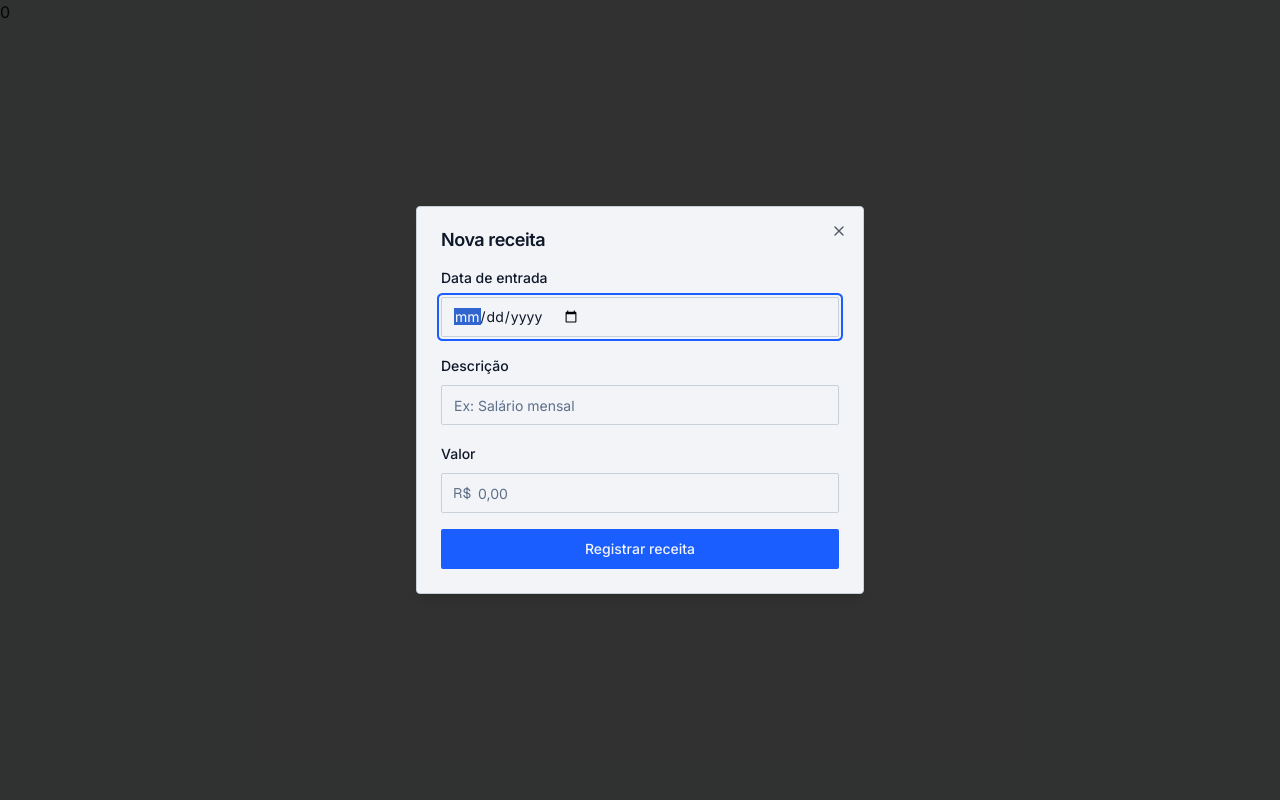
fluxos assincronos — submit com feedback › falha da API volta o botao ao normal, mostra o erro e preserva o que foi digitado
Type "2026-10-20" into the date field labelled "Data de entrada" at (640, 317), box x1=441 y1=297 x2=839 y2=337
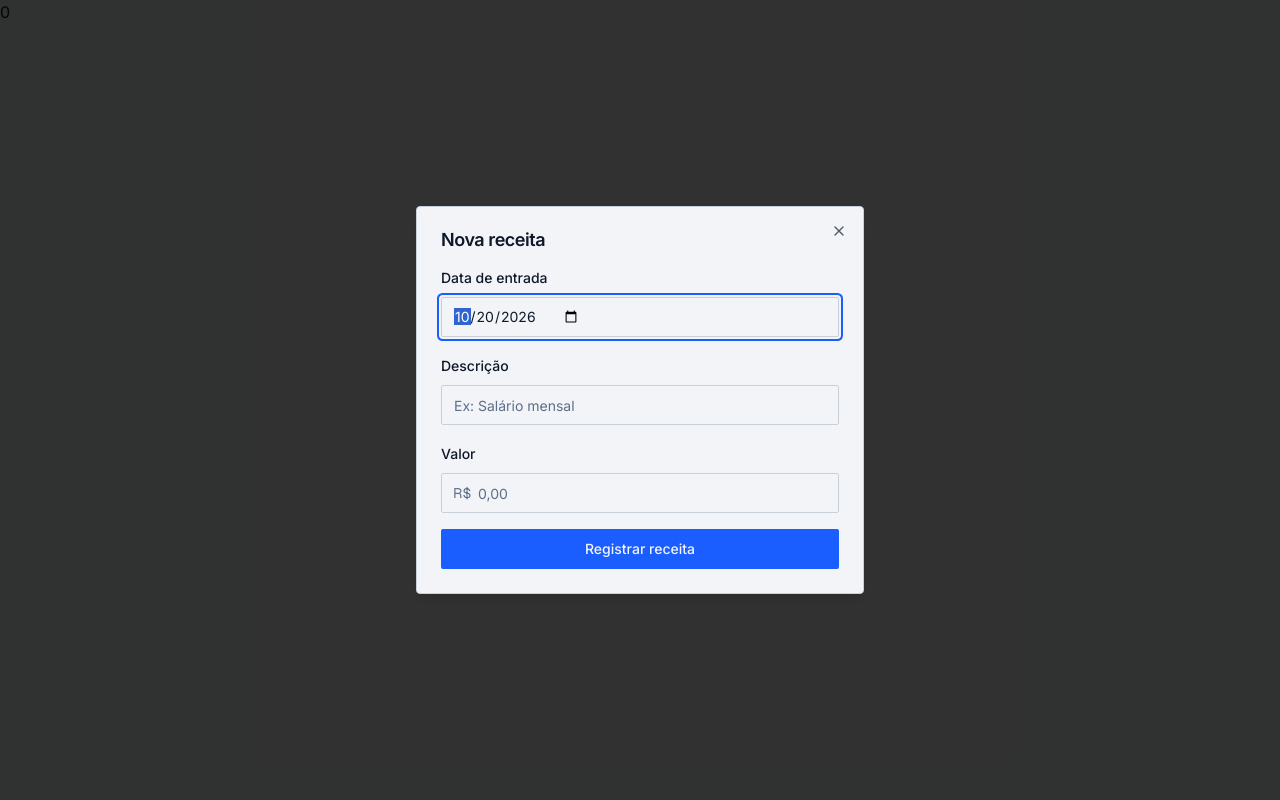
Type "Freelance" into the field labelled "Descrição" at (640, 405), box x1=441 y1=385 x2=839 y2=425
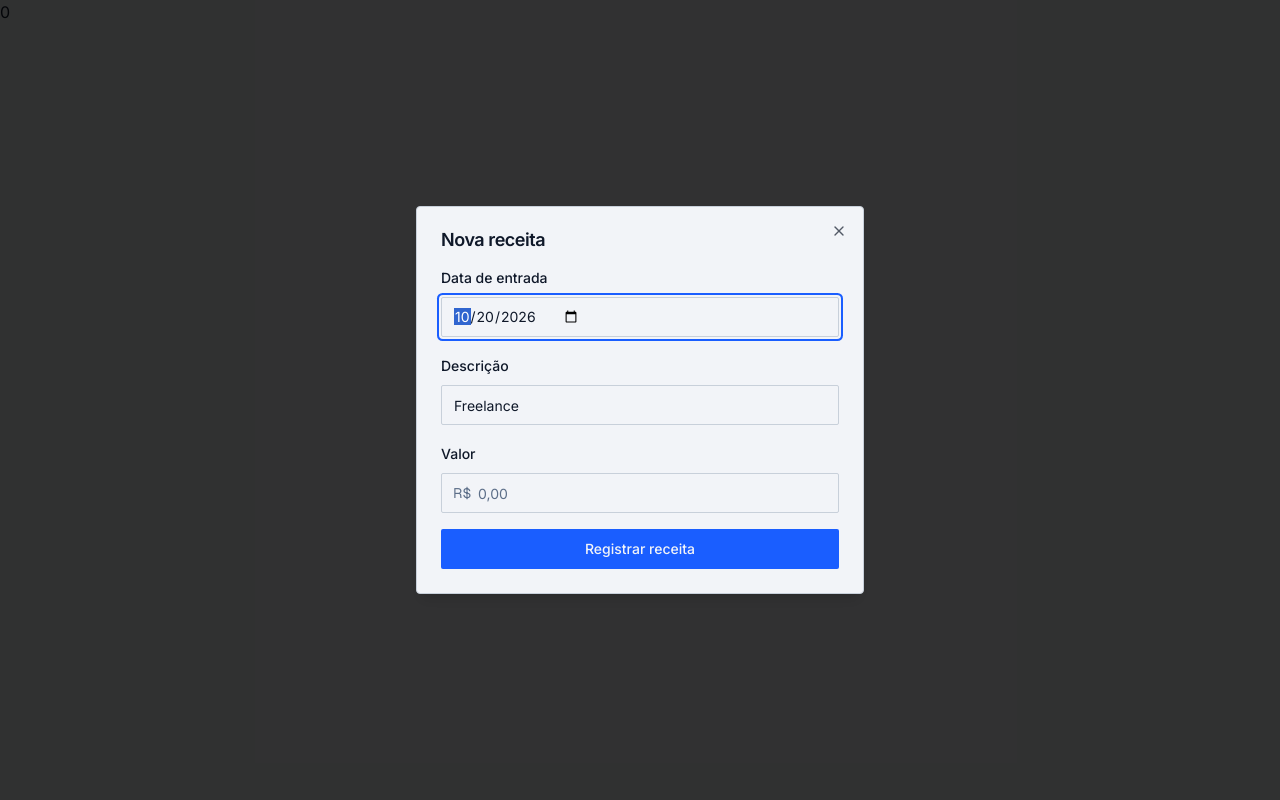
Type "10000" into the field labelled "Valor" at (640, 493), box x1=441 y1=473 x2=839 y2=513
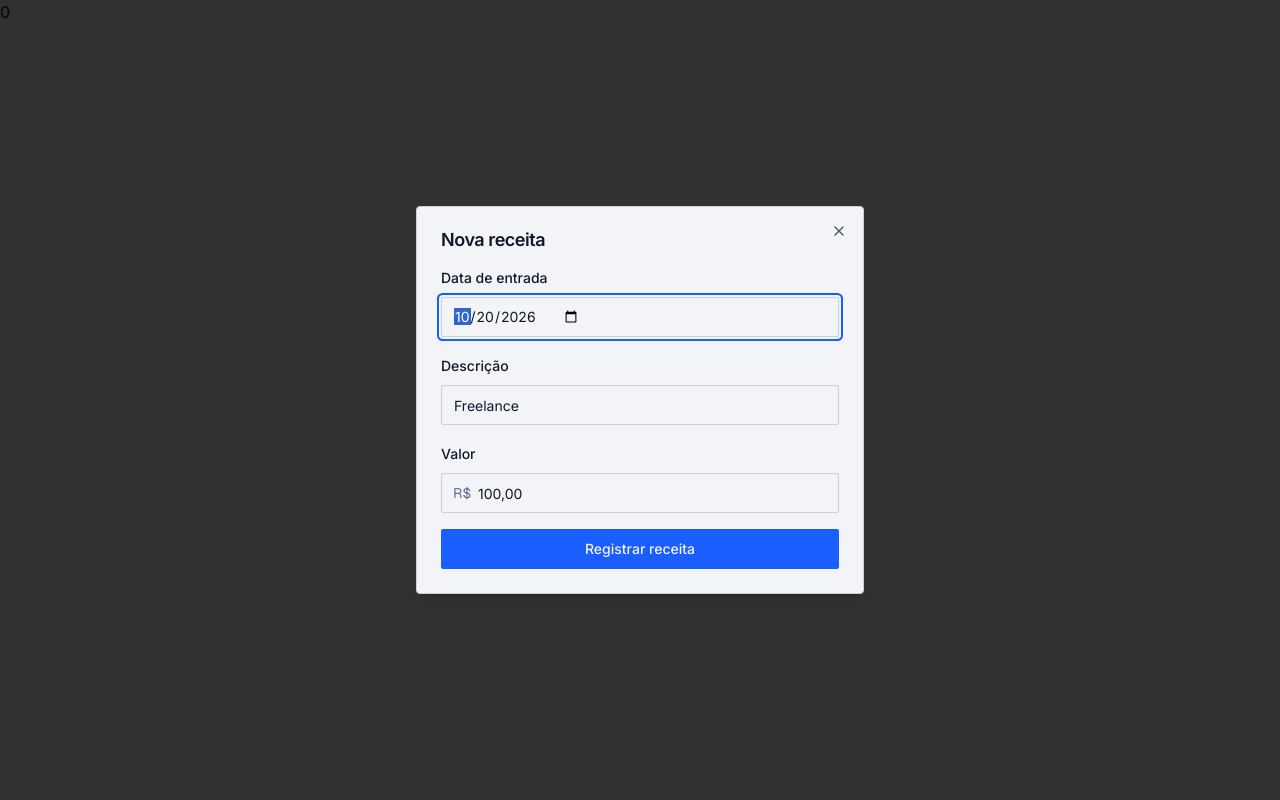
Click the button "Registrar receita" at (640, 549), box x1=441 y1=529 x2=839 y2=569
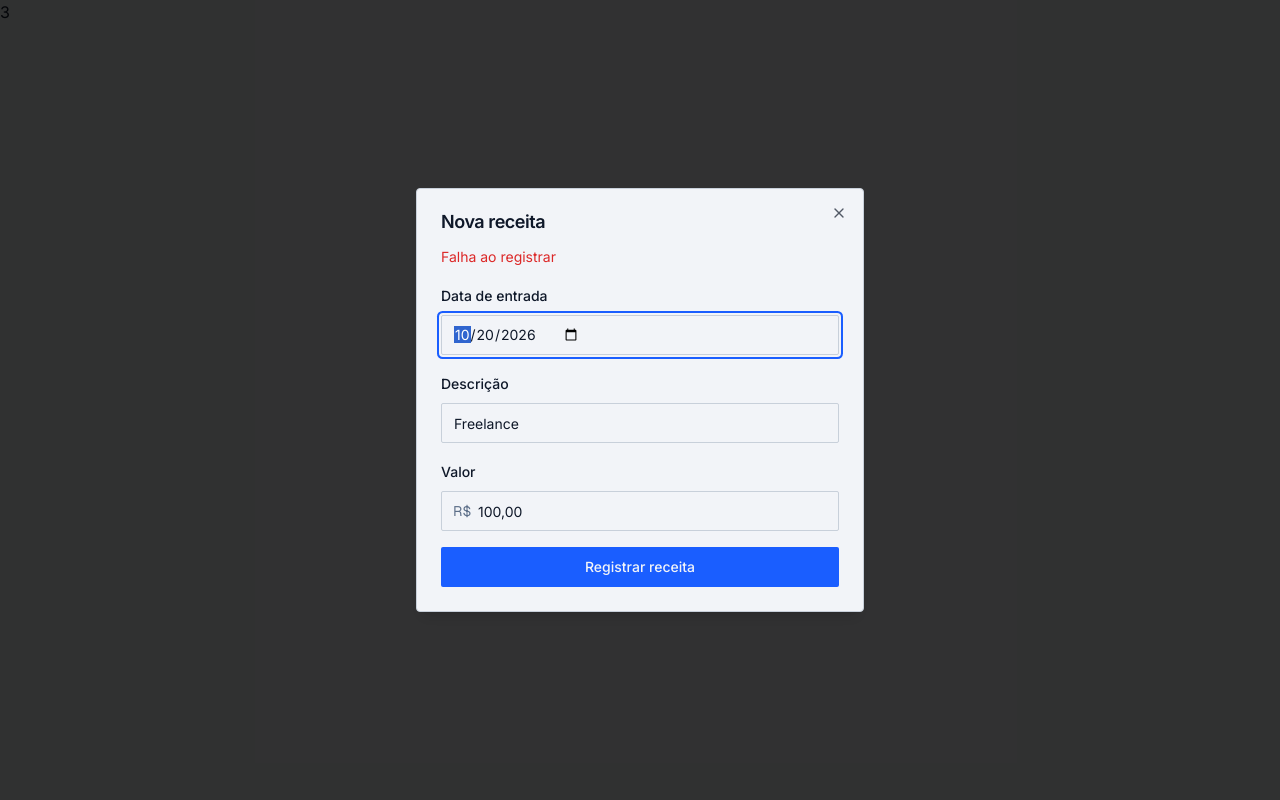
Expected: the button "Registrar receita" is enabled, x1=441 y1=547 x2=839 y2=587
Now the text "Falha ao registrar" is shown, box x1=441 y1=248 x2=556 y2=265
